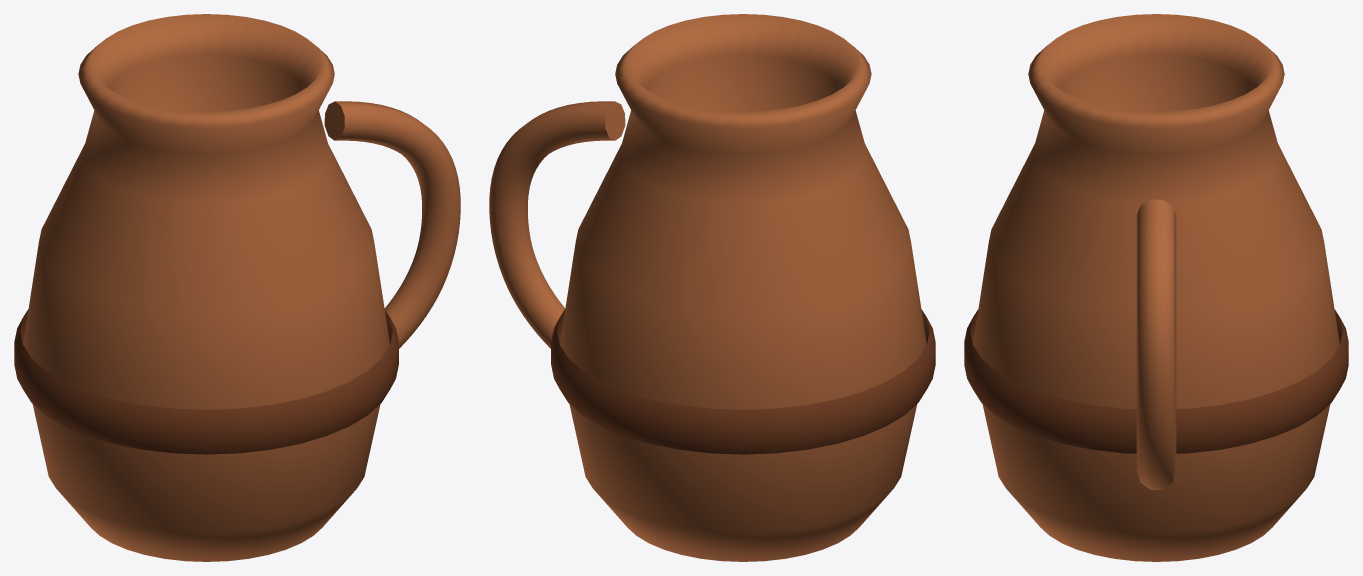
File: krug.glb
The picture shows the model from 3 angles, left to right: view 1: azimuth 30°, elevation 25°; view 2: azimuth 150°, elevation 25°; view 3: azimuth 270°, elevation 25°; orthographic projection.
Parts seen in each view (by area): view 1: krug, band, r; view 2: krug, band, r; view 3: krug, band, r.
Part boxes in pixels (x1=…): krug: x1=23, y1=14, x2=389, y2=561; band: x1=14, y1=309, x2=398, y2=454; r: x1=324, y1=101, x2=460, y2=348; krug: x1=560, y1=14, x2=926, y2=561; band: x1=551, y1=309, x2=935, y2=454; r: x1=489, y1=101, x2=625, y2=348; krug: x1=973, y1=14, x2=1339, y2=561; band: x1=964, y1=309, x2=1348, y2=453; r: x1=1136, y1=199, x2=1176, y2=489.
Size of the model in its own units: 0.1956 by 0.2 by 0.156.
